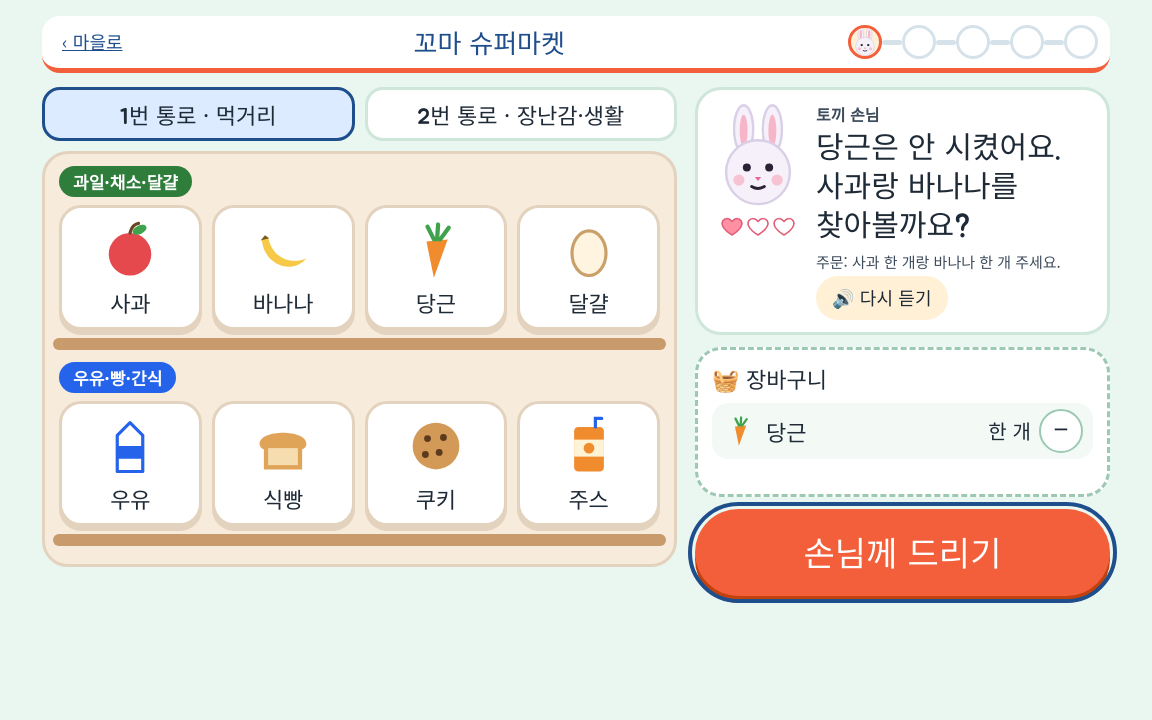
쉬운 단계와 자동으로 쉽게 › 두 번 넘게 막히면 다음 손님은 한 단계 쉽게 냅니다
This screenshot has width=1152, height=720.
Earlier steps of the test are not shown.
Step 1. Click the button "손님께 드리기" → click(902, 552), box [695, 509, 1110, 596]
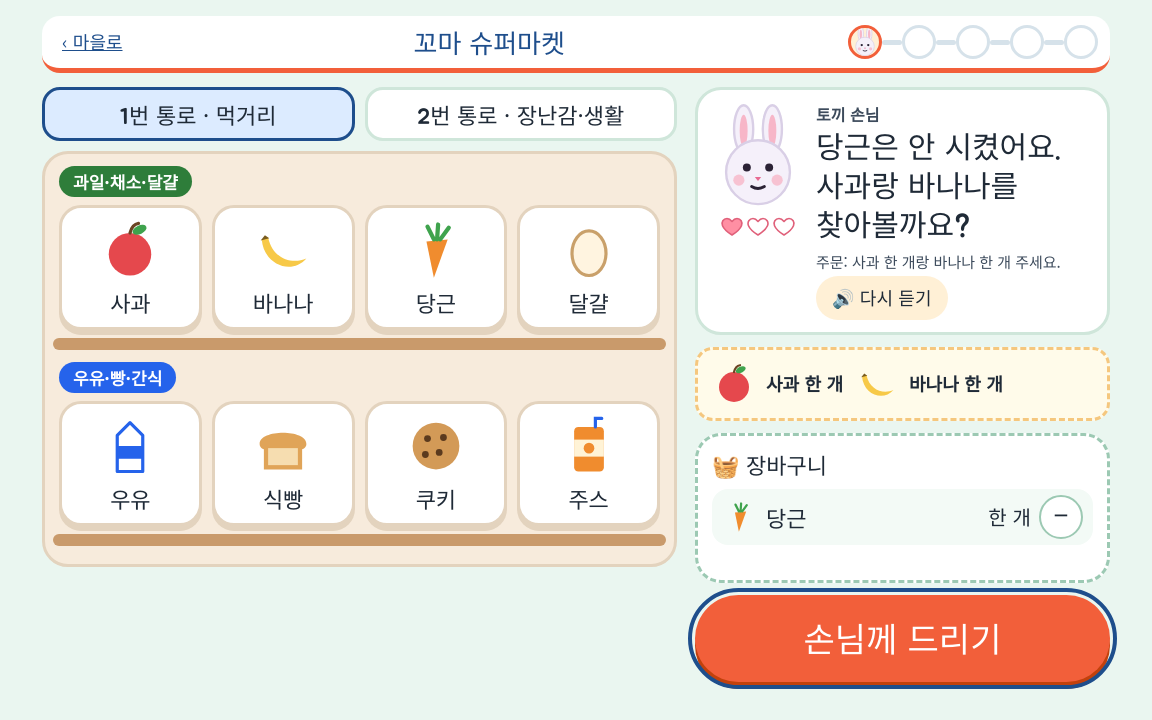
Step 2. Click the button named "당근 하나 빼기" → click(1061, 517), box [1039, 495, 1083, 539]
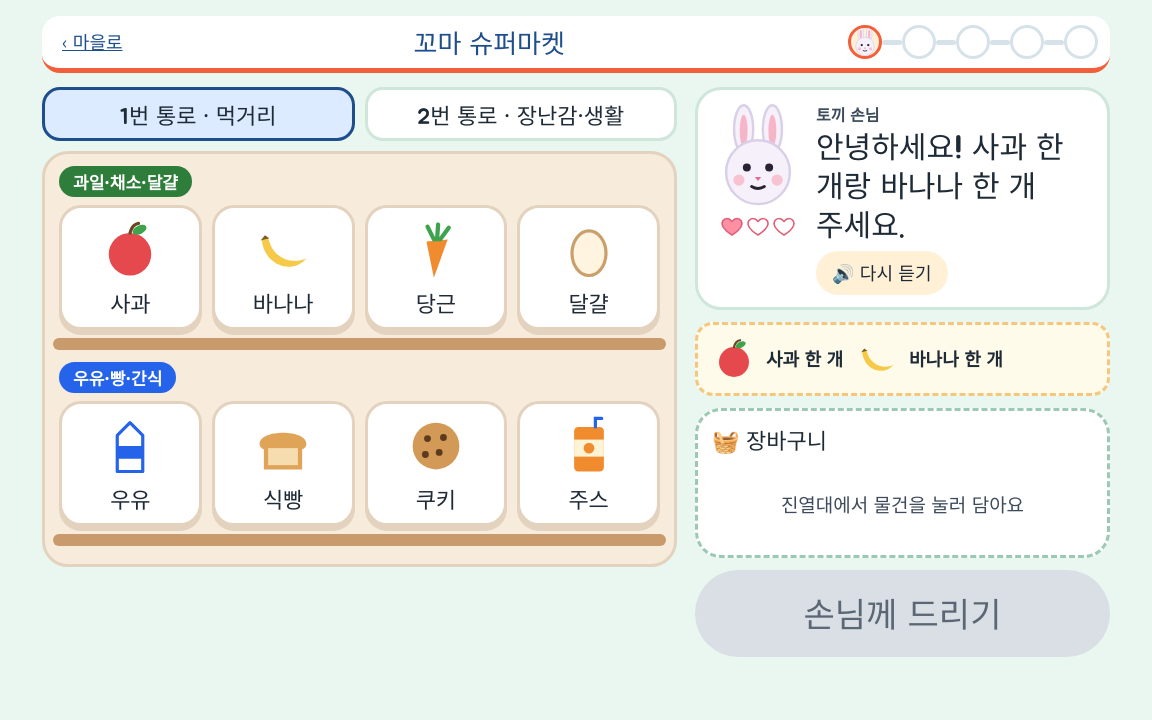
Step 3. Click the button with aria-label "사과 담기" → click(130, 268), box [59, 205, 202, 330]
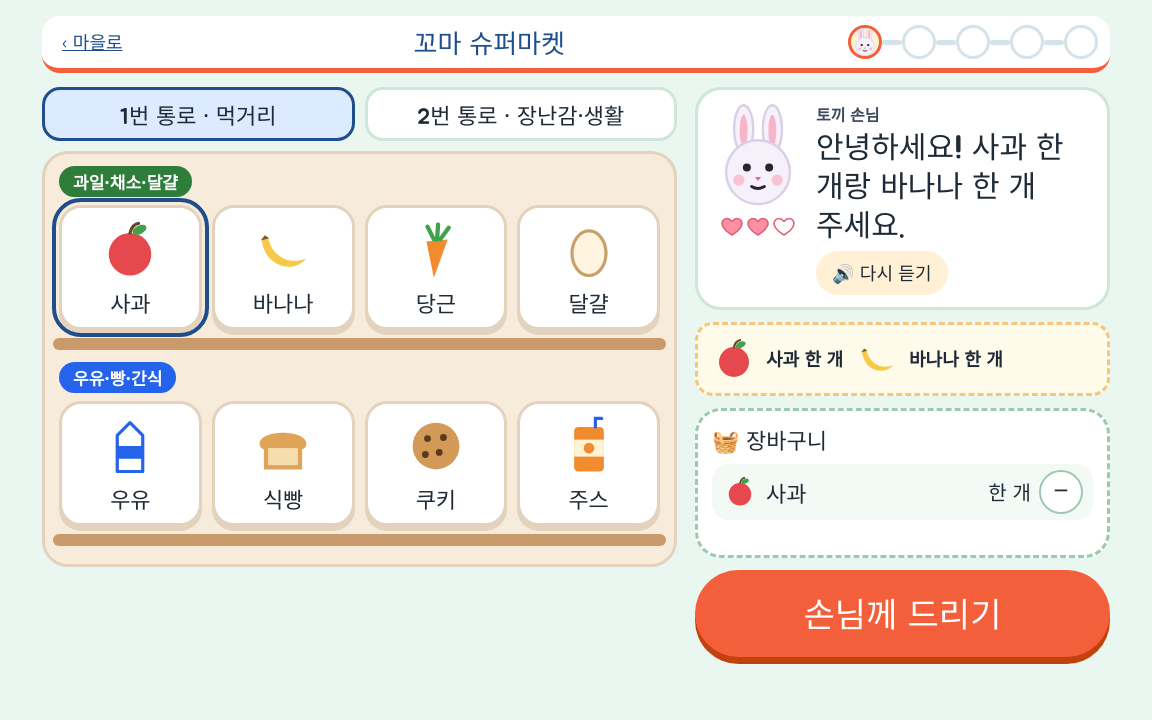
Step 4. Click the button with aria-label "바나나 담기" → click(283, 268), box [212, 205, 355, 330]
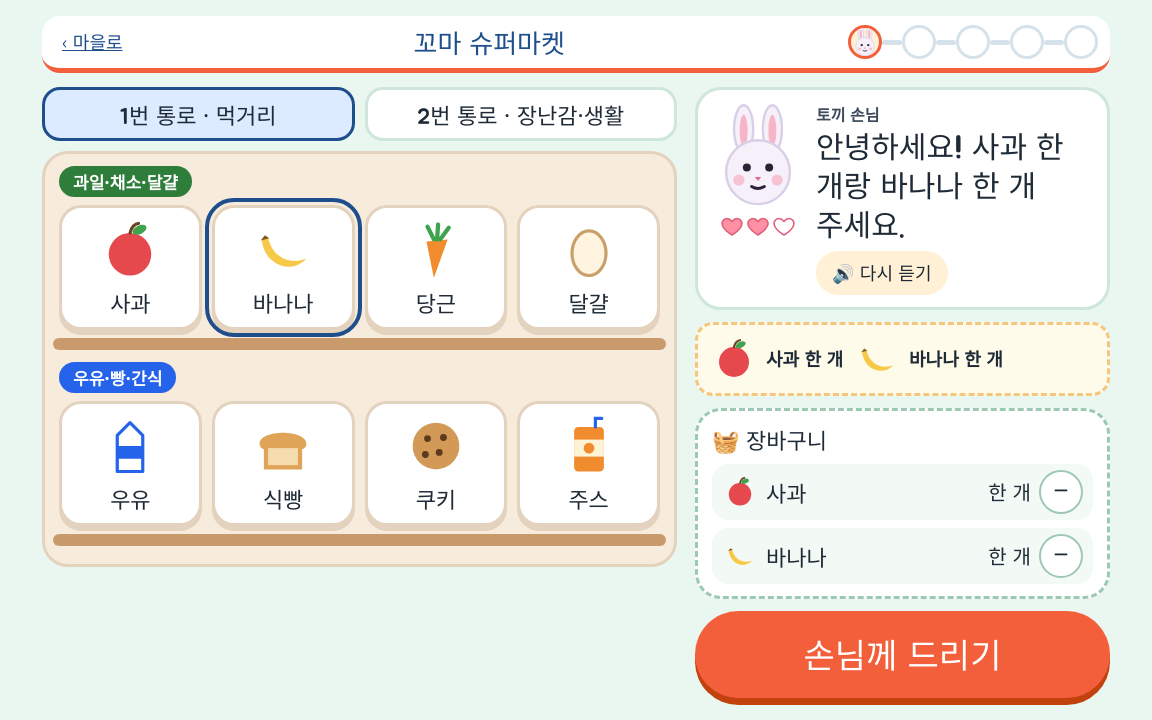
Step 5. Click the button "손님께 드리기" → click(902, 654), box [695, 611, 1110, 698]
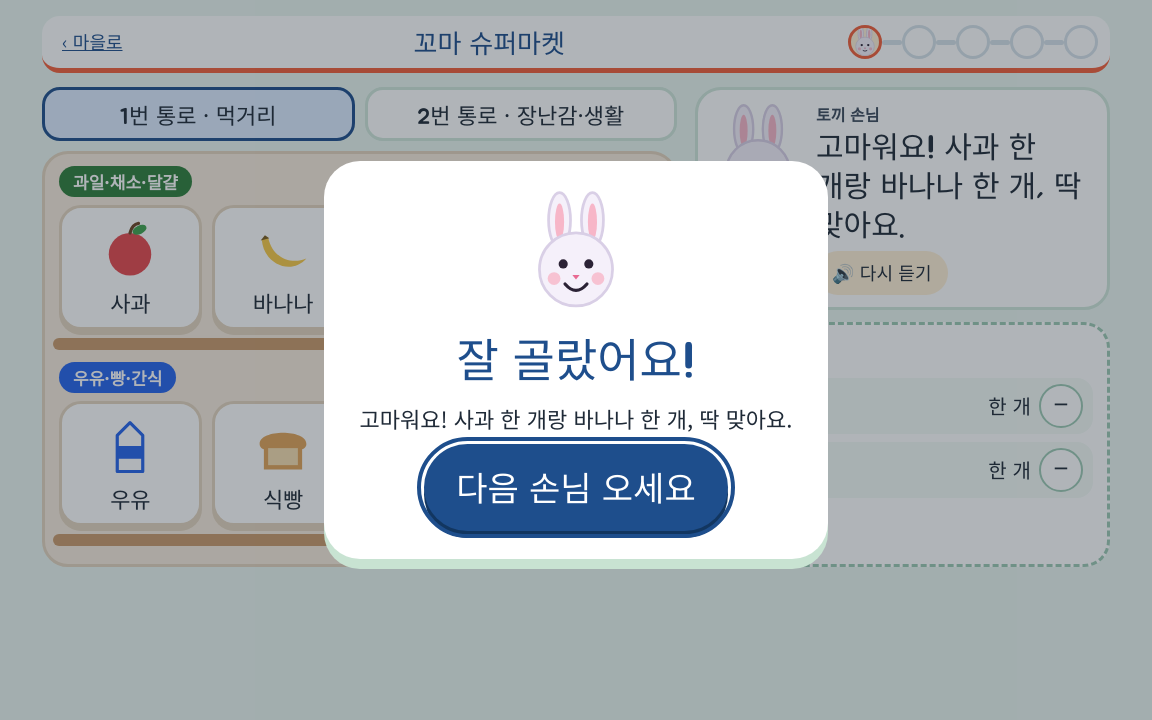
Step 6. Click the button "다음 손님 오세요" → click(576, 487), box [424, 444, 728, 531]
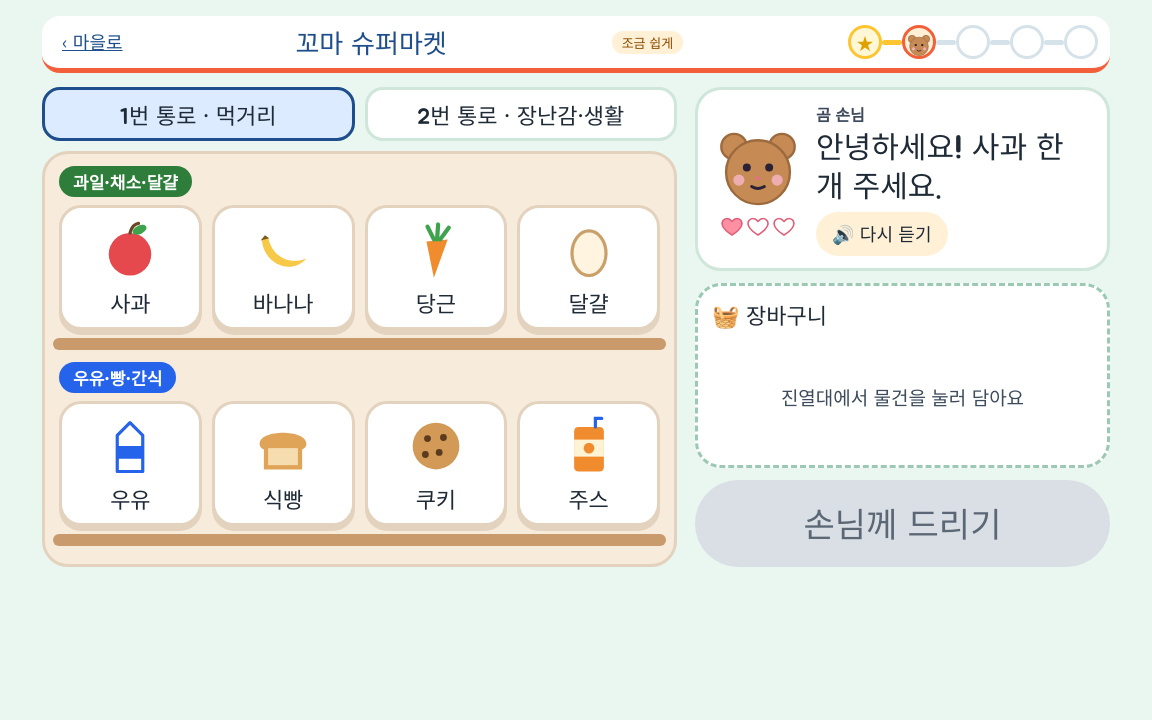
Expected: the text "조금 쉽게" is shown, [612, 30, 683, 54]
Expected: the text with class "line" reads "안녕하세요! 사과 한 개 주세요.", [816, 130, 1095, 208]
